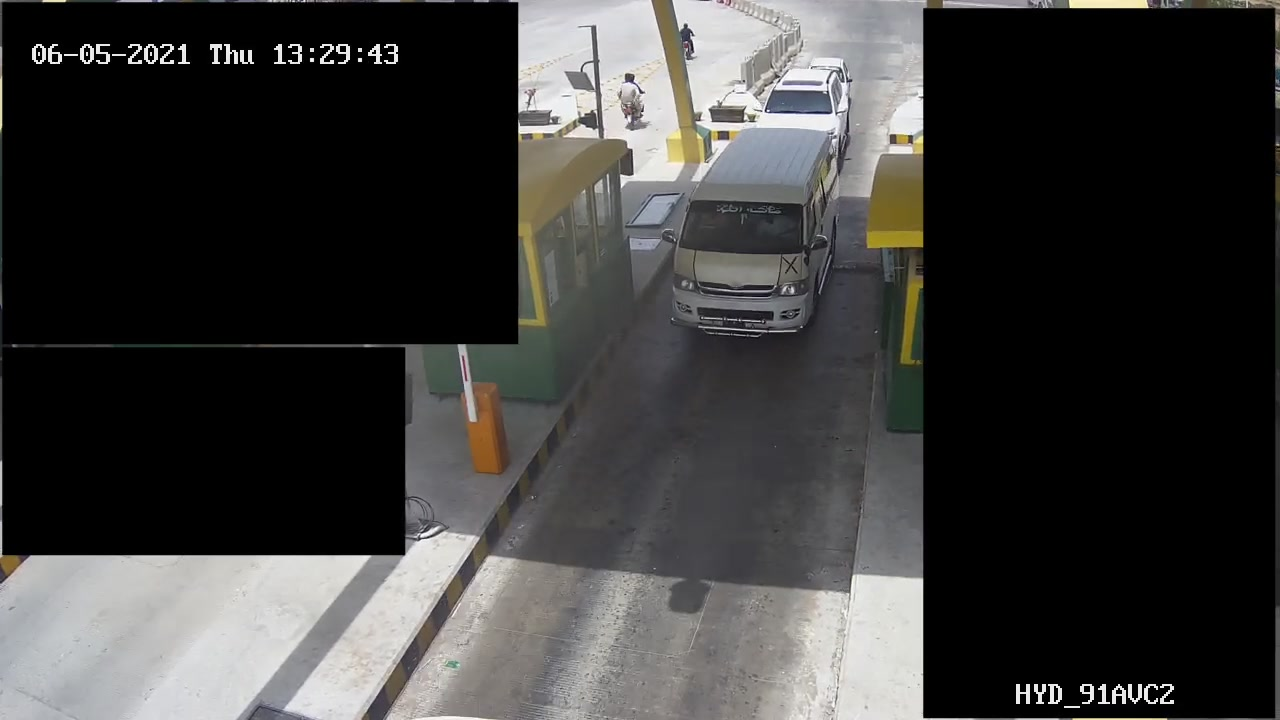F2: (655, 127, 863, 339)
